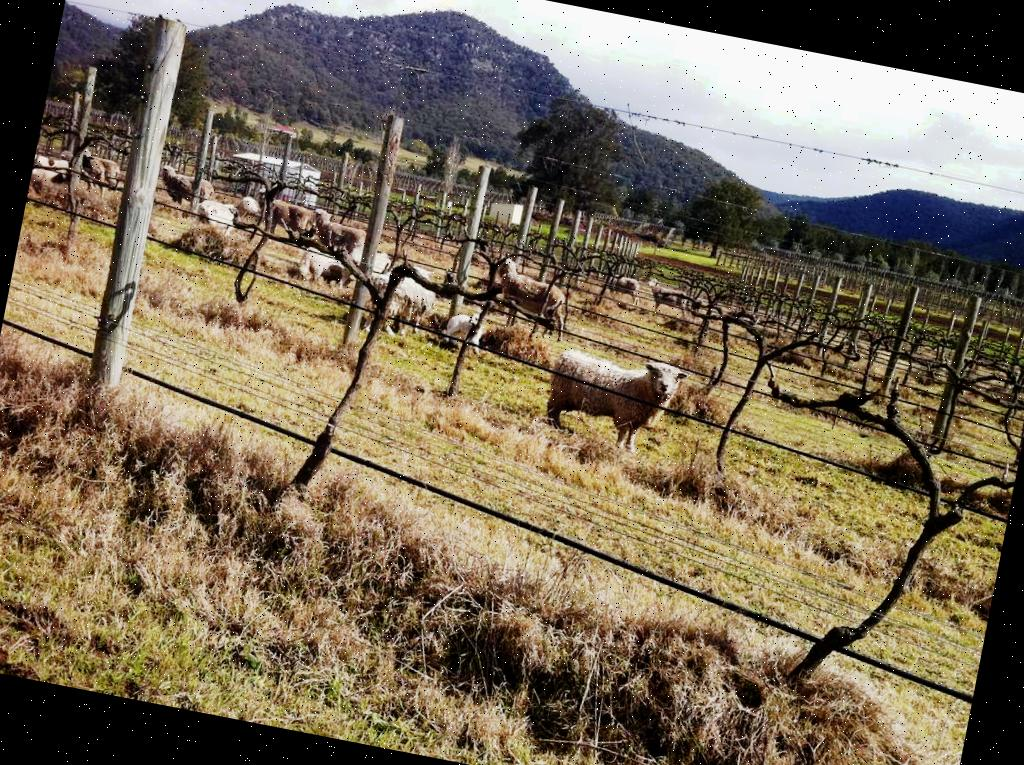Sheep: (540, 342, 688, 454), (480, 254, 576, 344), (366, 268, 441, 336), (304, 208, 372, 266), (295, 244, 348, 288), (192, 195, 241, 238), (644, 279, 696, 319), (264, 198, 306, 240), (154, 163, 194, 205), (484, 252, 522, 296), (72, 148, 110, 186), (32, 154, 70, 191), (604, 270, 644, 304), (229, 193, 263, 232), (192, 176, 217, 202), (96, 158, 120, 182)
